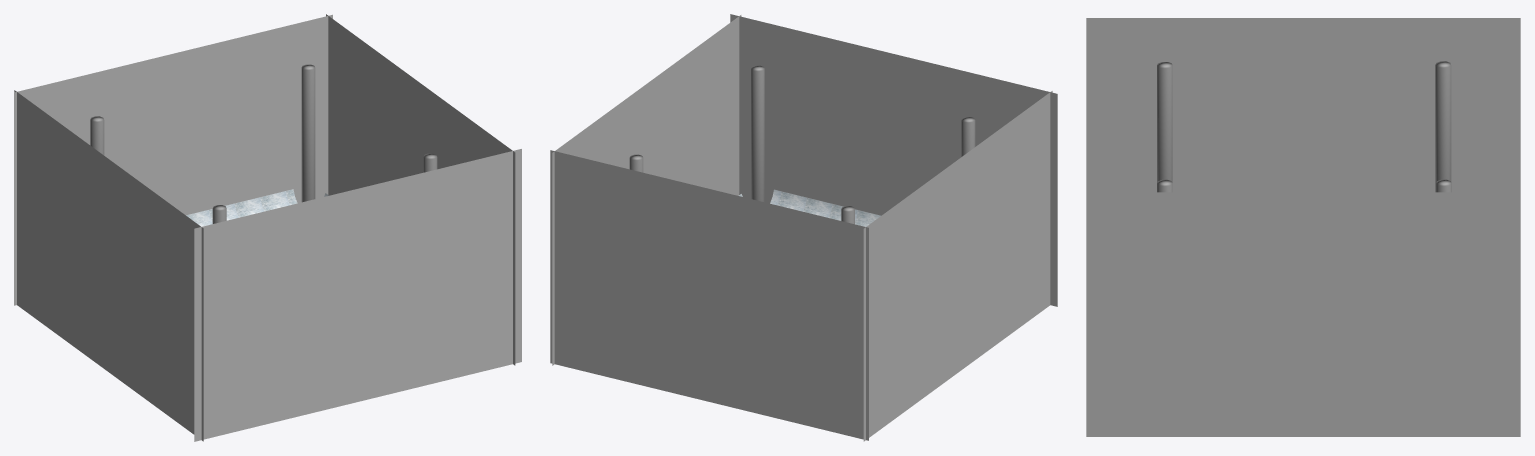
File: FlatLand.fbx
The picture shows the model from 3 angles, left to right: view 1: azimuth 30°, elevation 25°; view 2: azimuth 150°, elevation 25°; view 3: azimuth 270°, elevation 25°; orthographic projection. The views are drawn at different scales.
Visible parts, largest first — view 1: wall_2, wall_0, wall_3, wall_1, cylindar3, pCube4, cylindar4; view 2: wall_3, wall_0, wall_2, wall_1, cylindar6, pCube3, cylindar5; view 3: wall_1, wall_0, cylindar4, cylindar5.
Part boxes in pixels (<box>): wall_2: <box>194,149,521,441</box>; wall_0: <box>14,90,203,441</box>; wall_3: <box>14,14,332,305</box>; wall_1: <box>326,14,515,365</box>; cylindar3: <box>301,64,315,202</box>; pCube4: <box>186,189,297,226</box>; cylindar4: <box>90,116,104,155</box>; wall_3: <box>550,150,868,440</box>; wall_0: <box>863,91,1052,441</box>; wall_2: <box>730,14,1057,306</box>; wall_1: <box>552,15,741,365</box>; cylindar6: <box>751,65,764,202</box>; pCube3: <box>770,189,880,226</box>; cylindar5: <box>961,117,975,156</box>; wall_1: <box>1086,192,1520,436</box>; wall_0: <box>1086,18,1520,192</box>; cylindar4: <box>1435,61,1451,192</box>; cylindar5: <box>1157,62,1172,182</box>.
Size of the model in its own units: 18204 by 11318 by 18204.
